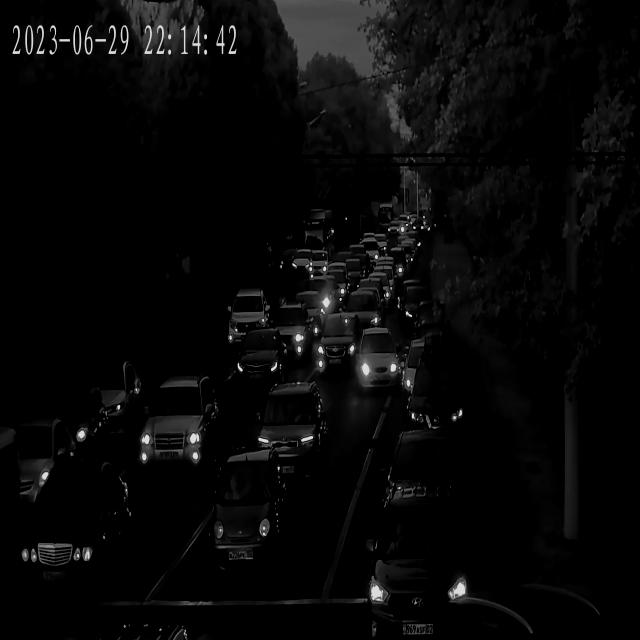Bus: (305, 208, 336, 251)
Car: (19, 463, 131, 603), (373, 494, 471, 640), (204, 451, 287, 579), (143, 374, 223, 483), (385, 431, 470, 520), (257, 383, 327, 487), (12, 414, 78, 518), (61, 355, 143, 438), (52, 382, 112, 466), (401, 373, 468, 443), (311, 315, 378, 376), (346, 329, 406, 395), (236, 328, 292, 392), (261, 304, 315, 368), (224, 289, 273, 352), (395, 286, 441, 336), (284, 291, 330, 334), (340, 290, 385, 328), (296, 280, 338, 316), (350, 278, 390, 314), (391, 280, 428, 315), (322, 264, 352, 294), (312, 276, 347, 301), (337, 256, 368, 283), (288, 252, 316, 279), (371, 262, 398, 286), (354, 240, 377, 262), (365, 234, 389, 254), (396, 237, 419, 256), (387, 222, 402, 236)
